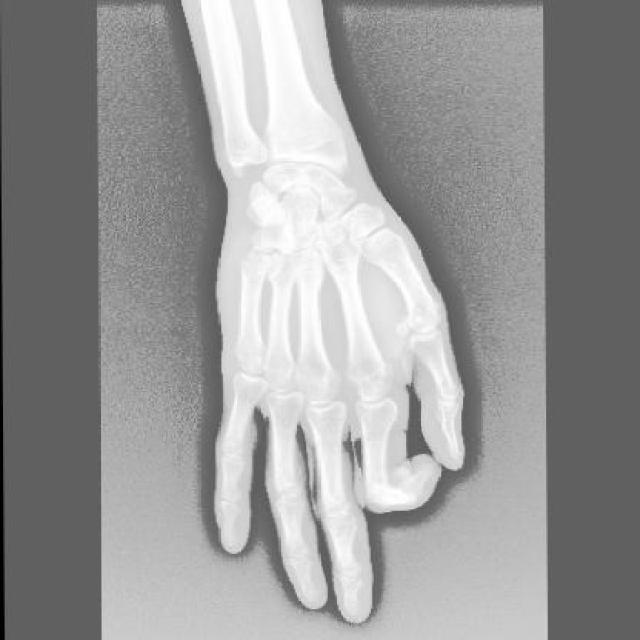Fracture: (236, 254, 270, 285)
